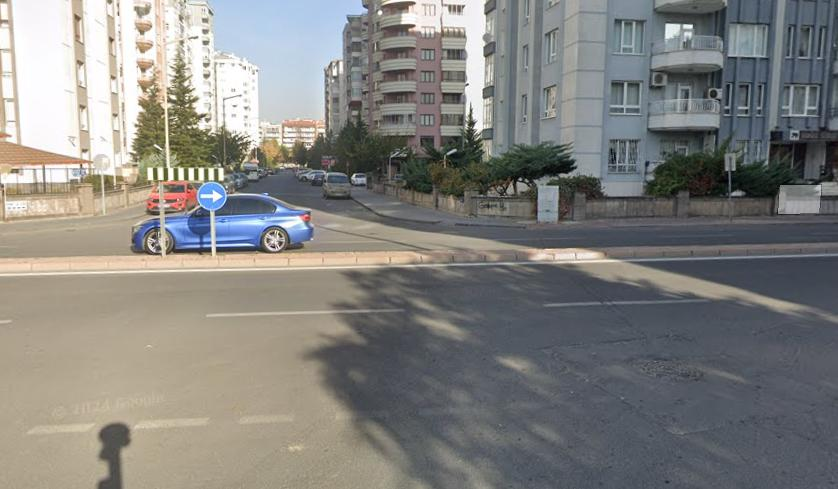turnright: (197, 182, 227, 211)
